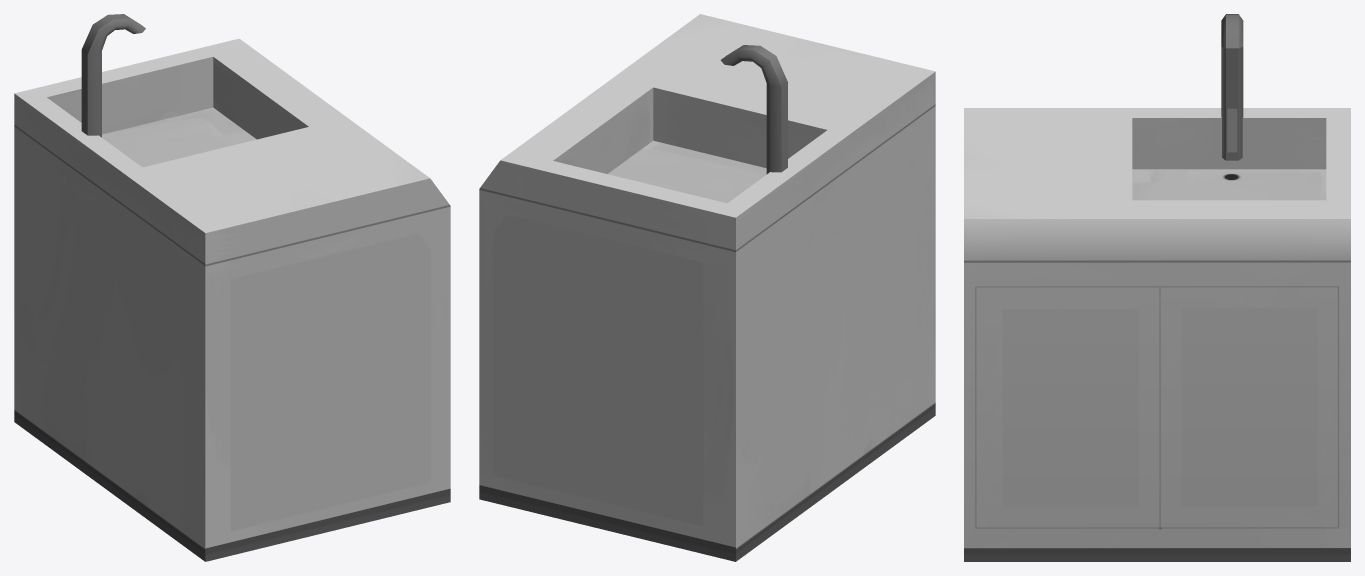
The model's file is KCabinet_Cleaner.fbx.
3 views of the same model, side by side, from view 1: azimuth 30°, elevation 25°; view 2: azimuth 150°, elevation 25°; view 3: azimuth 270°, elevation 25° (orthographic). The views are drawn at different scales.
Parts seen in each view (by area): view 1: Kcabinet_Clener, faucet; view 2: Kcabinet_Clener, faucet; view 3: Kcabinet_Clener, faucet.
Boxes of the visible parts, box(x1,y1,x2,y2) form: Kcabinet_Clener: box(14, 38, 450, 561); faucet: box(81, 14, 145, 137); Kcabinet_Clener: box(479, 14, 935, 561); faucet: box(720, 45, 787, 174); Kcabinet_Clener: box(964, 108, 1350, 561); faucet: box(1221, 14, 1243, 160).
Bounding box in the file's own units: 1.31 × 2.24 × 1.77.
